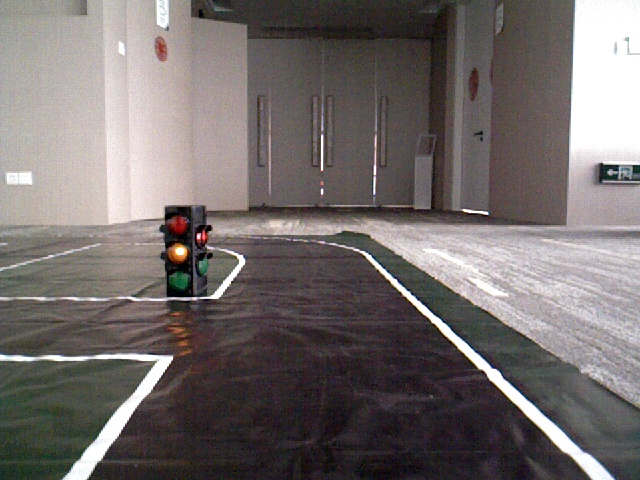yellow: (163, 209, 196, 293)
